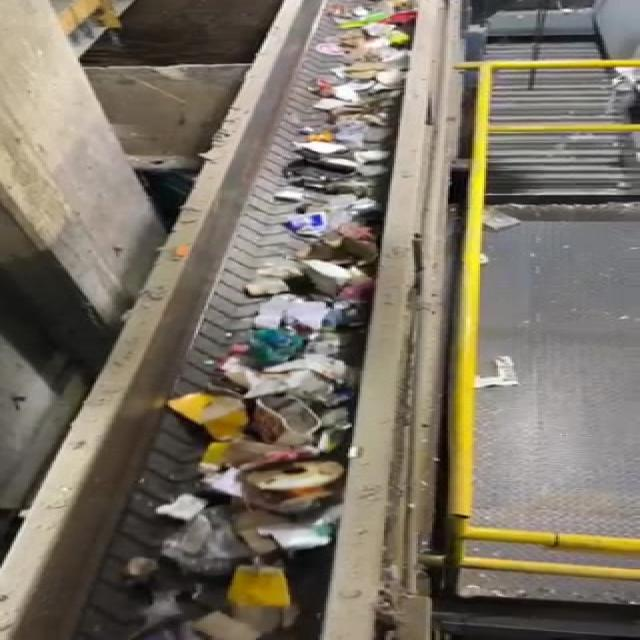paper: (159, 386, 267, 455), (227, 562, 302, 618)
